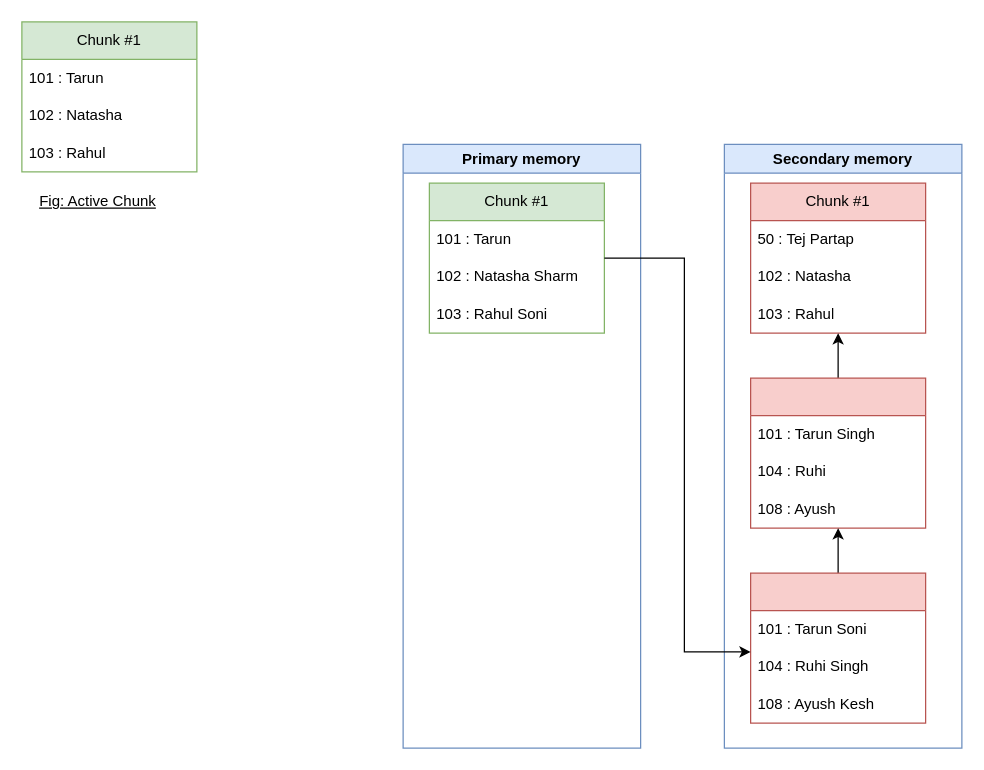
Some shapes in this 984 by 770 pixel diagram are drawn without their labels. Here are the shapes that lost their labels. From the top down, the box of each, then its label:
(749, 377, 926, 528): Chunk #2
(749, 572, 926, 723): Chunk #3
